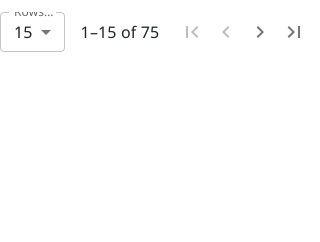
Test: PaginationControls › includes current page size in sorted options when it is not part of defaults
This screenshot has width=320, height=242.
Click the dropdown named "Rows per page".
click(23, 32)  # box x1=14 y1=20 x2=33 y2=42
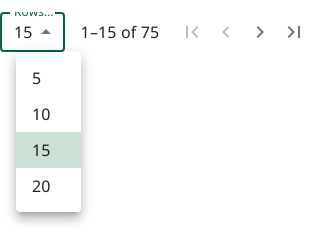
Check: the options read "5", "10", "15", "20", in this order, box x1=32 y1=67 x2=41 y2=89; x1=32 y1=103 x2=51 y2=125; x1=16 y1=132 x2=81 y2=168; x1=32 y1=175 x2=51 y2=197
